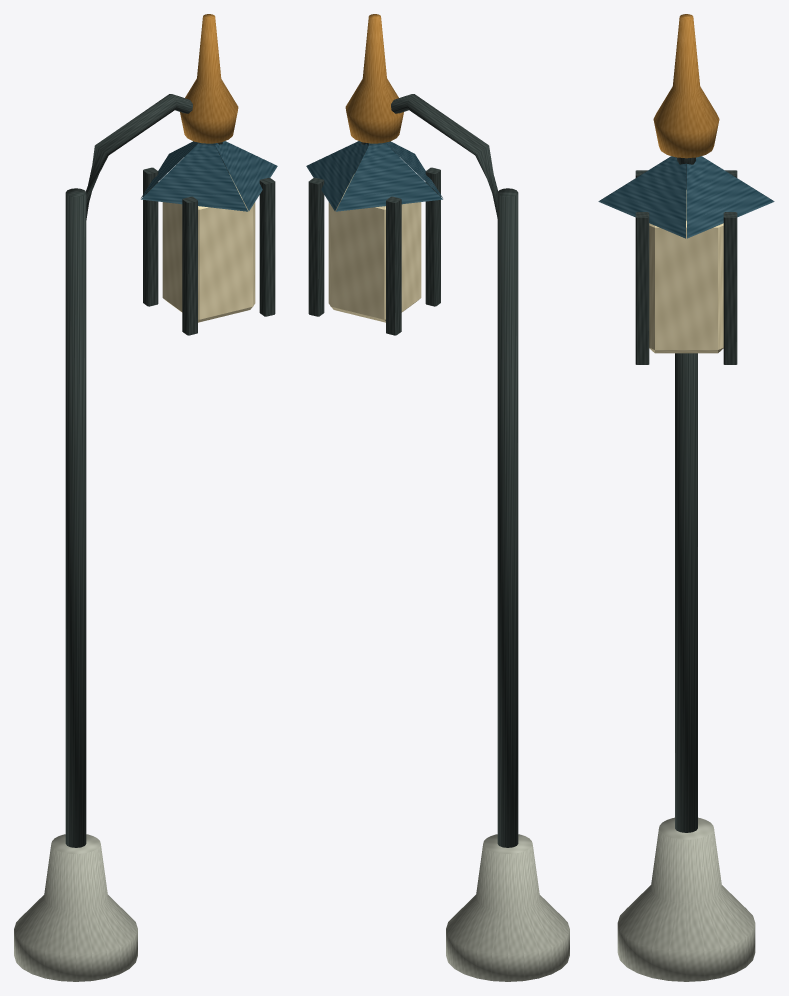
The model's file is street_lantern.glb.
3 renders of one model, left to right at view 1: azimuth 30°, elevation 25°; view 2: azimuth 150°, elevation 25°; view 3: azimuth 270°, elevation 25°, orthographic. The views are drawn at different scales.
Parts seen in each view (by area): view 1: street_lantern_Metalwork, street_lantern_Structure, street_lantern_Glazing, street_lantern_Roof; view 2: street_lantern_Metalwork, street_lantern_Structure, street_lantern_Glazing, street_lantern_Roof; view 3: street_lantern_Metalwork, street_lantern_Structure, street_lantern_Glazing, street_lantern_Roof.
Part boxes in pixels (left/top/right/bottom): street_lantern_Metalwork: left=65, top=14, right=275, bottom=847; street_lantern_Structure: left=14, top=834, right=137, bottom=981; street_lantern_Glazing: left=162, top=174, right=255, bottom=322; street_lantern_Roof: left=141, top=141, right=277, bottom=211; street_lantern_Metalwork: left=308, top=14, right=518, bottom=847; street_lantern_Structure: left=446, top=834, right=569, bottom=981; street_lantern_Glazing: left=328, top=174, right=421, bottom=322; street_lantern_Roof: left=306, top=141, right=442, bottom=211; street_lantern_Metalwork: left=635, top=14, right=737, bottom=832; street_lantern_Structure: left=617, top=817, right=755, bottom=981; street_lantern_Glazing: left=649, top=190, right=723, bottom=353; street_lantern_Roof: left=598, top=156, right=774, bottom=238.
Size of the model in its own units: 1.19 by 4.04 by 0.64.
3 materials, 3 textured.
